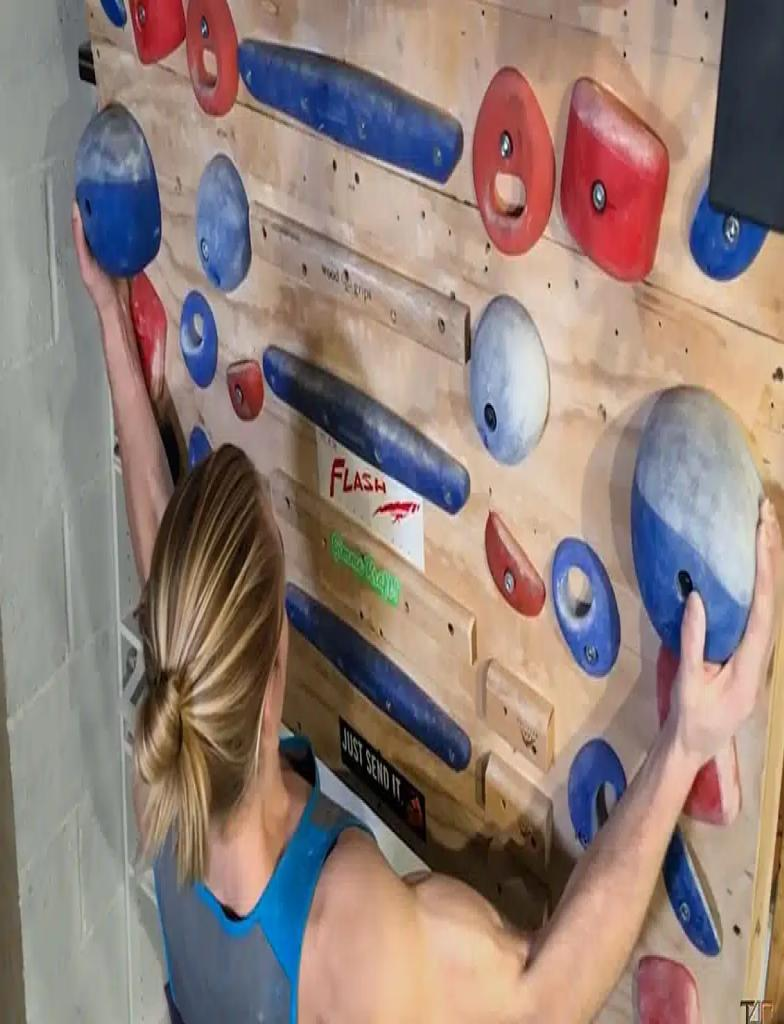crimp: (485, 510, 546, 616), (226, 360, 263, 418)
ledge: (560, 77, 669, 282)
pocket: (472, 67, 555, 254), (550, 538, 620, 677), (186, 0, 238, 115), (180, 291, 217, 387)
sloper: (630, 387, 761, 662), (75, 102, 161, 277), (468, 294, 550, 464), (195, 154, 251, 291)
